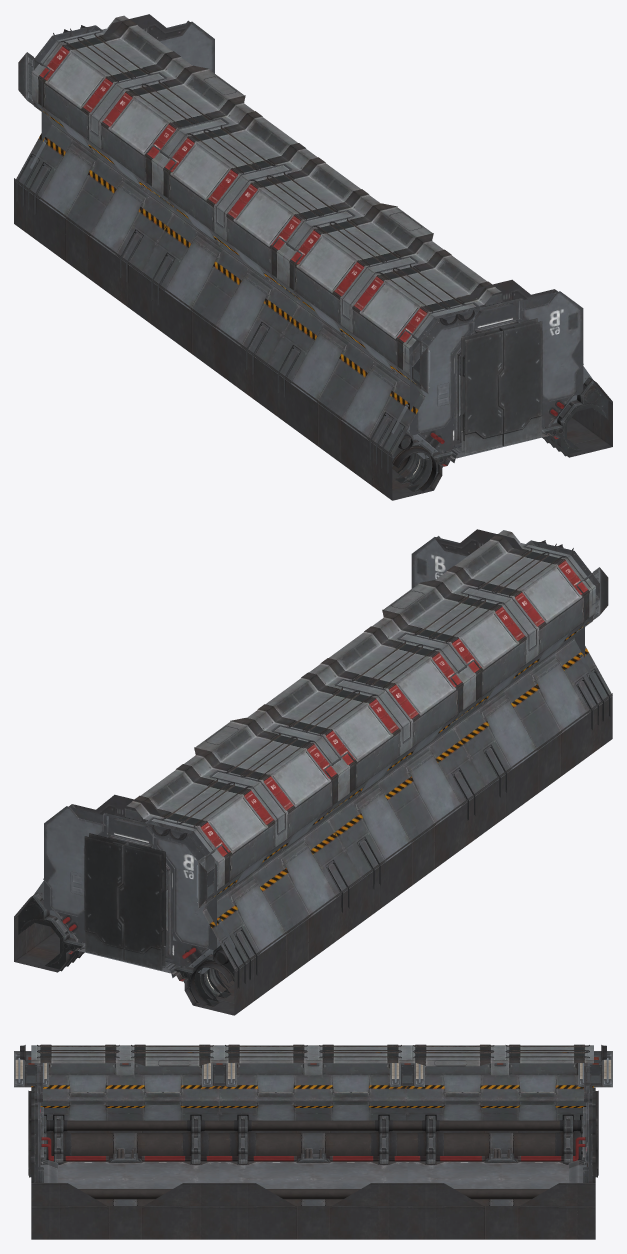
File: corridor.glb
The picture shows the model from 3 angles, top to bottom: view 1: azimuth 30°, elevation 25°; view 2: azimuth 150°, elevation 25°; view 3: azimuth 270°, elevation 25°; orthographic projection. The views are drawn at different scales.
Parts seen in each view (by area): view 1: SciFiC_Wall_0, SciFiC_Floor_0, SciFiC_Doorway_Frame_0, SciFiC_Doorway_door_0, SciFiC_Column_B_0, SciFiC_Pipeframe_0; view 2: SciFiC_Wall_0, SciFiC_Floor_0, SciFiC_Doorway_Frame_0, SciFiC_Doorway_door_0, SciFiC_Column_B_0, SciFiC_Pipeframe_0; view 3: SciFiC_Floor_0, SciFiC_Wall_0, SciFiC_Pipes_A_0, SciFiC_Pipeframe_0, SciFiC_Column_B_0, SciFiC_Doorway_Frame_0, SciFiC_PipebranchBox_0, SciFiC_Doorway_door_0, SciFiC_Doorway_Pipes_0.
Part boxes in pixels (bbox=[...]): SciFiC_Wall_0: bbox=[15, 15, 501, 457]; SciFiC_Floor_0: bbox=[14, 178, 612, 500]; SciFiC_Doorway_Frame_0: bbox=[30, 14, 592, 462]; SciFiC_Doorway_door_0: bbox=[461, 318, 542, 455]; SciFiC_Column_B_0: bbox=[18, 25, 481, 394]; SciFiC_Pipeframe_0: bbox=[16, 154, 608, 492]; SciFiC_Wall_0: bbox=[127, 530, 612, 971]; SciFiC_Floor_0: bbox=[14, 693, 612, 1015]; SciFiC_Doorway_Frame_0: bbox=[34, 529, 596, 977]; SciFiC_Doorway_door_0: bbox=[84, 833, 165, 970]; SciFiC_Column_B_0: bbox=[145, 540, 608, 909]; SciFiC_Pipeframe_0: bbox=[18, 668, 610, 1007]; SciFiC_Floor_0: bbox=[31, 1131, 595, 1239]; SciFiC_Wall_0: bbox=[31, 1044, 593, 1120]; SciFiC_Pipes_A_0: bbox=[63, 1120, 563, 1205]; SciFiC_Pipeframe_0: bbox=[41, 1114, 584, 1164]; SciFiC_Column_B_0: bbox=[14, 1045, 612, 1087]; SciFiC_Doorway_Frame_0: bbox=[31, 1063, 595, 1182]; SciFiC_PipebranchBox_0: bbox=[108, 1148, 518, 1162]; SciFiC_Doorway_door_0: bbox=[28, 1090, 598, 1177]; SciFiC_Doorway_Pipes_0: bbox=[41, 1137, 585, 1161].
Size of the model in its own units: 260 by 208 by 815.
10 materials, 10 textured.
